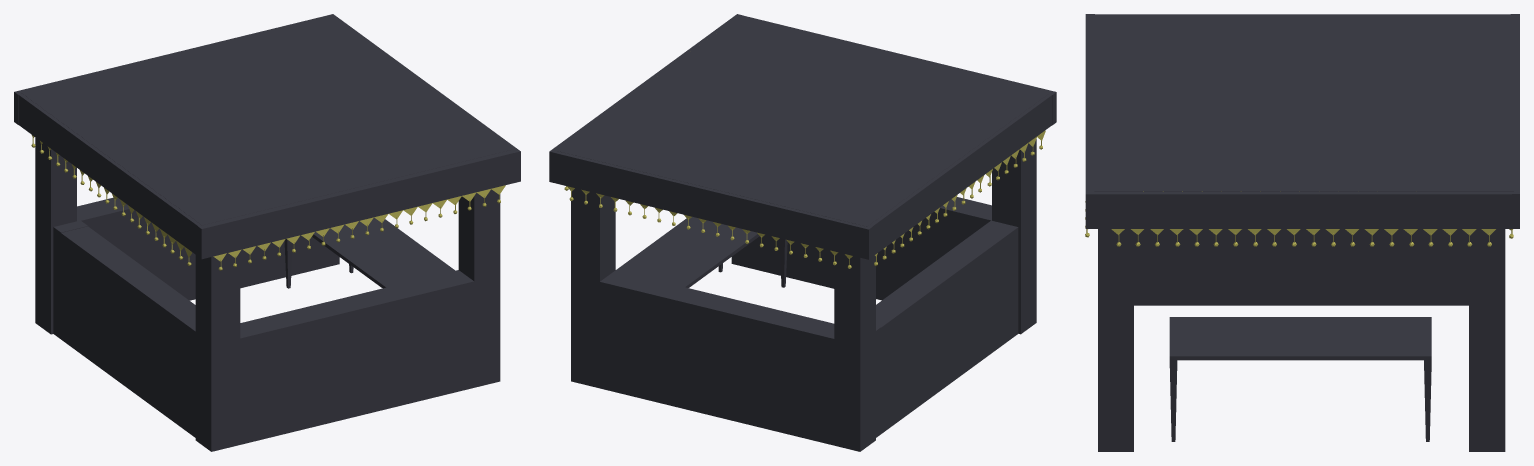
Rendered from MerchantCamp.fbx.
The picture shows the model from 3 angles, left to right: view 1: azimuth 30°, elevation 25°; view 2: azimuth 150°, elevation 25°; view 3: azimuth 270°, elevation 25°; orthographic projection. The views are drawn at different scales.
Parts seen in each view (by area): view 1: pCube15, pCube9, pPlane6, pCylinder87; view 2: pCube15, pCube9, pCylinder87, pPlane6; view 3: pCube15, pCube9, pPlane6, pCylinder87.
Part boxes in pixels (x1,y1,x2,y2): pCube15: (14,14,520,451); pCube9: (284,217,454,288); pPlane6: (32,135,505,261); pCylinder87: (31,136,500,270); pCube15: (549,14,1056,451); pCube9: (616,217,787,287); pCylinder87: (564,141,1042,268); pPlane6: (567,130,1045,258); pCube15: (1085,14,1519,451); pCube9: (1169,317,1431,441); pPlane6: (1111,191,1495,235); pCylinder87: (1085,201,1513,246).
Size of the model in its own units: 6.51 by 4.5 by 6.63.
